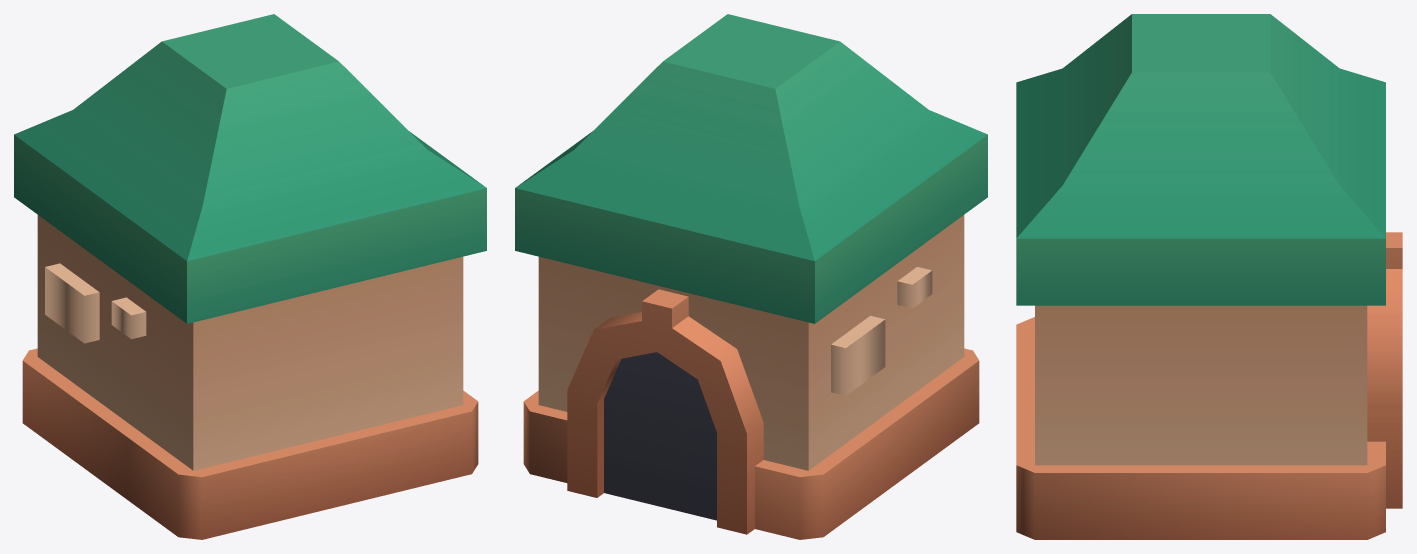
File: kenney-coaster-ride-exit.glb
The picture shows the model from 3 angles, left to right: view 1: azimuth 30°, elevation 25°; view 2: azimuth 150°, elevation 25°; view 3: azimuth 270°, elevation 25°; orthographic projection. The views are drawn at different scales.
Parts seen in each view (by area): view 1: ride-exit; view 2: ride-exit; view 3: ride-exit.
Boxes of the visible parts, x1,y1,x2,y2 form: ride-exit: (14, 14, 486, 539); ride-exit: (515, 14, 987, 539); ride-exit: (1016, 14, 1402, 539).
Size of the model in its own units: 1 by 1.25 by 1.05.
Materials: 1 (1 with a texture image).
